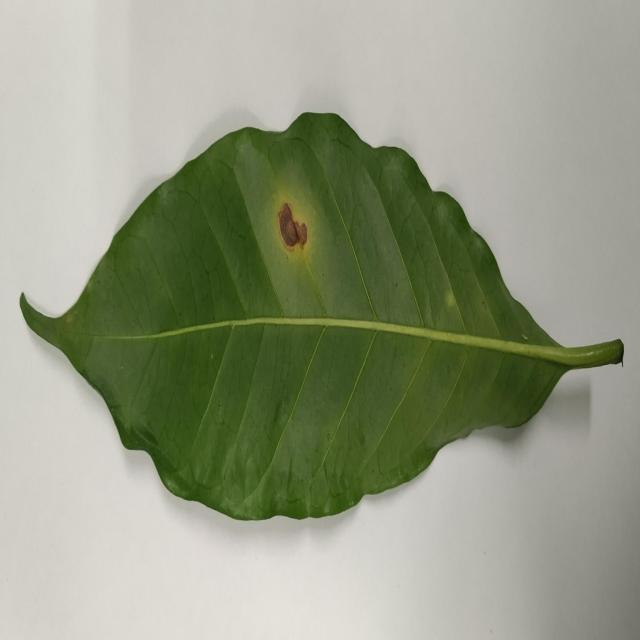Enfermedad-Mancha-de-hierro: (18, 112, 624, 523)
